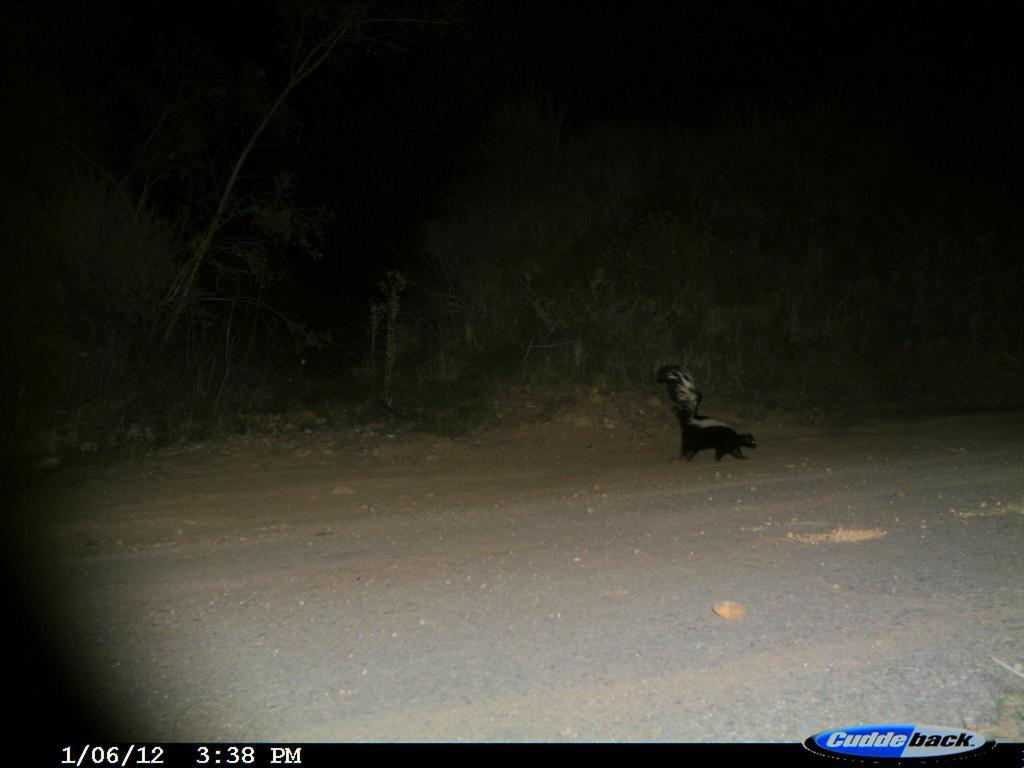skunk: (651, 360, 762, 478)
